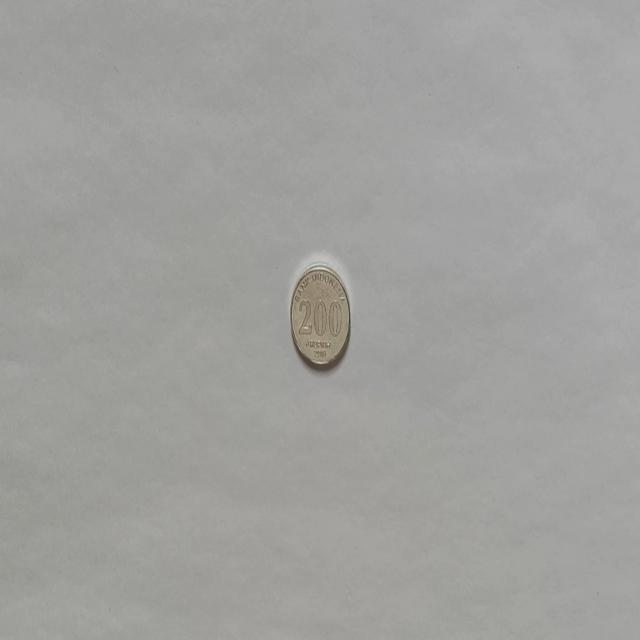dua ratus rupiah: (288, 262, 350, 369)
